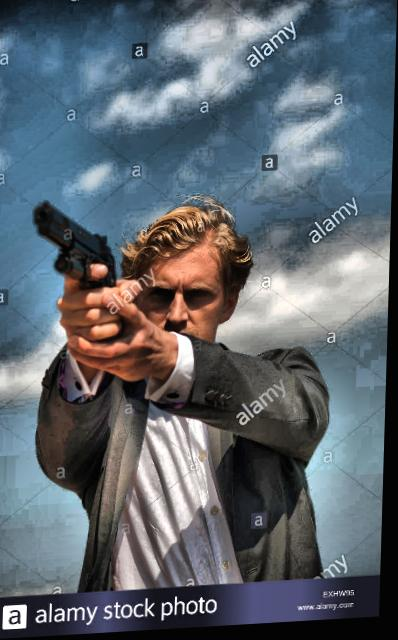pistol: (27, 193, 134, 349)
